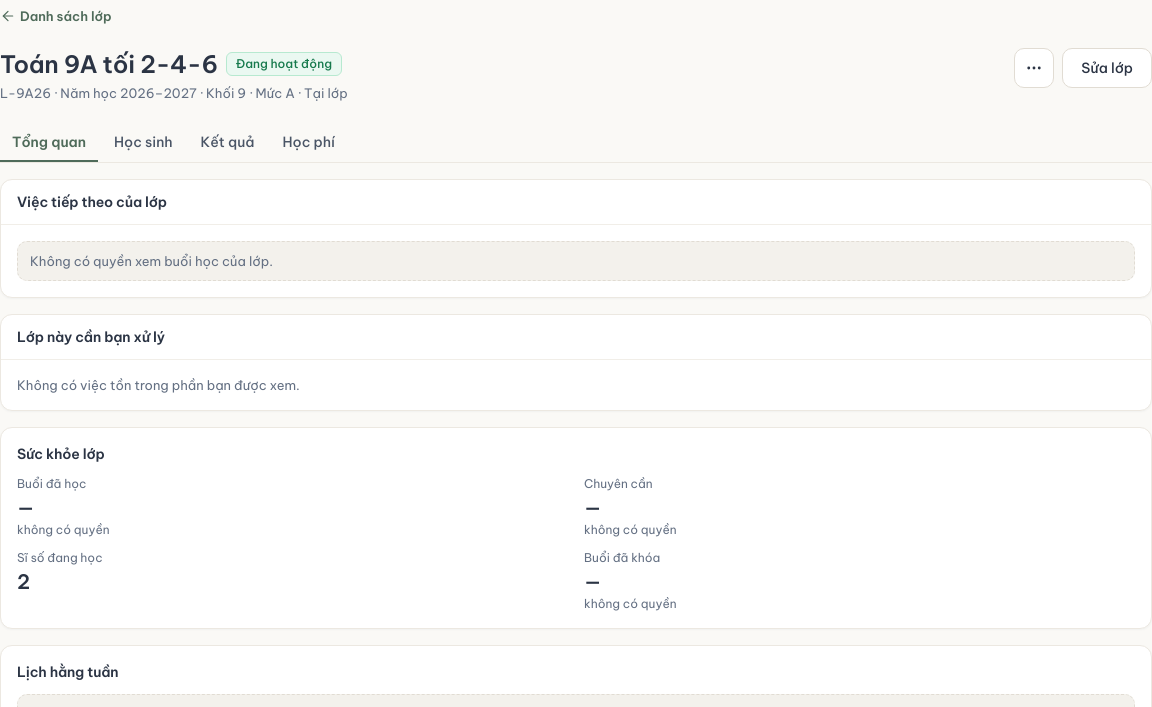
Test: ClassDetailPage students, results and fees tabs visibility › keeps a tab whose read failed and explains it
Click the tab "Học sinh" at (143, 142), box 102,122 -> 185,162
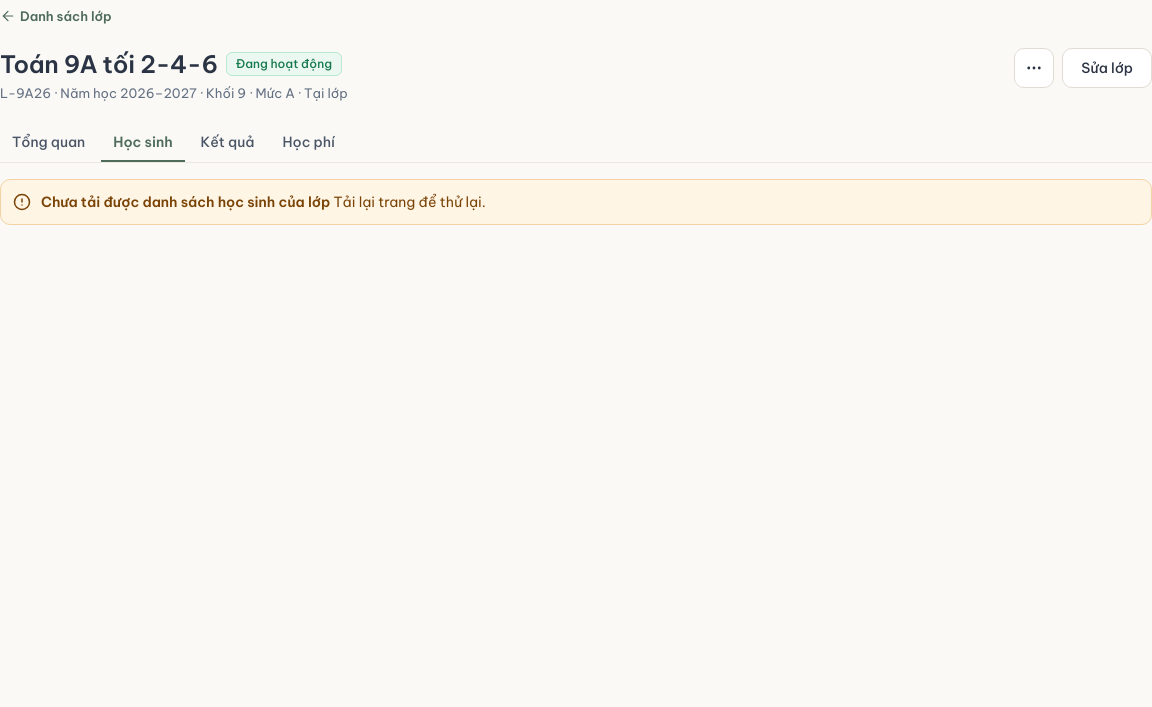
expect the text "Chưa tải được danh sách học sinh của lớp" is shown: met, box 41,193 -> 330,211
Click the tab "Kết quả" at (228, 142), box 189,122 -> 266,162
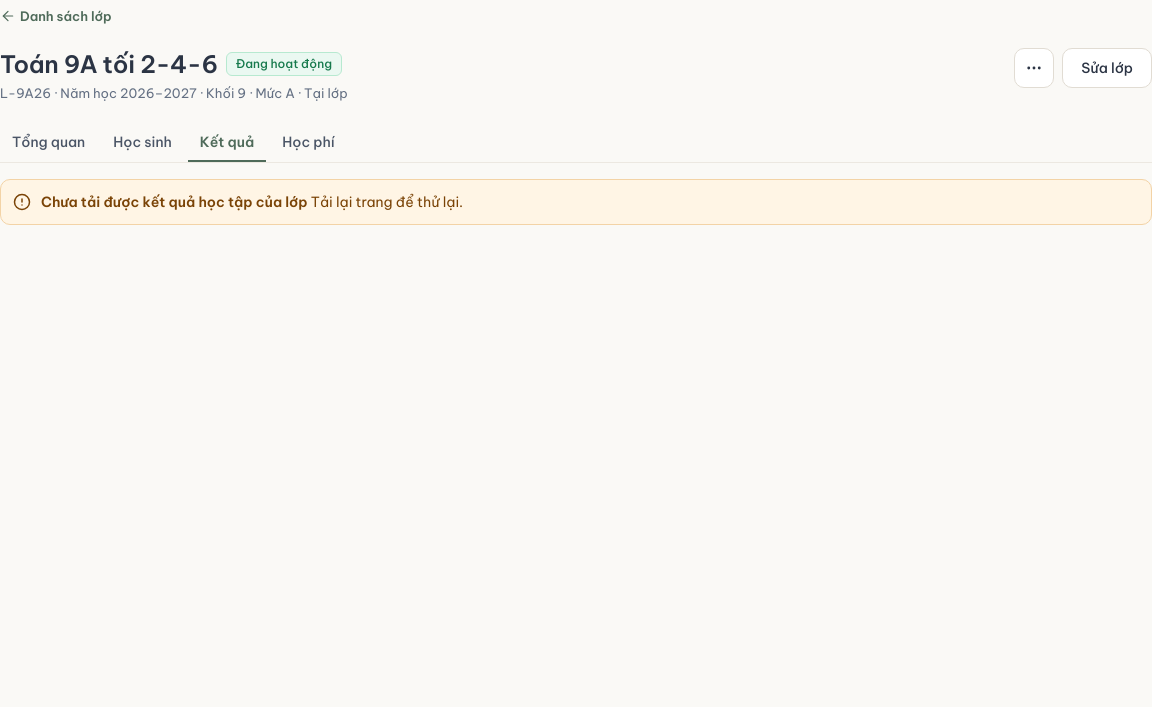
expect the text "Chưa tải được kết quả học tập của lớp" is shown: met, box 41,193 -> 308,211
Click the tab "Học phí" at (308, 142), box 270,122 -> 347,162
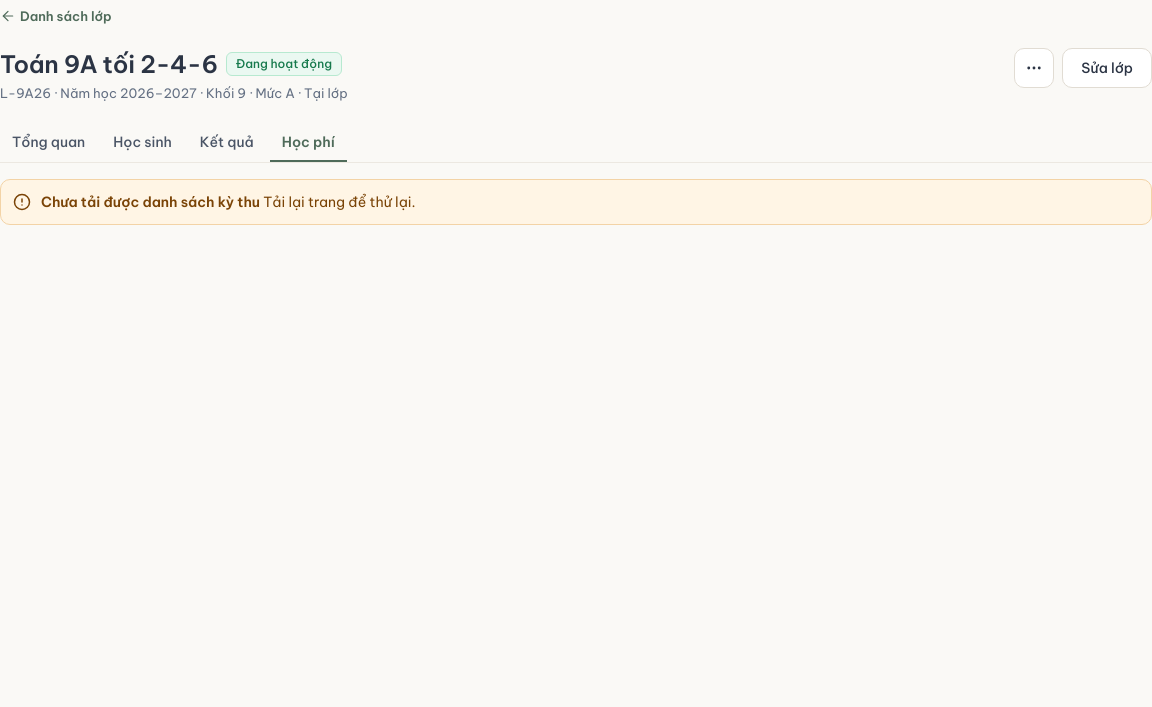
expect the text "Chưa tải được danh sách kỳ thu" is shown: met, box 41,193 -> 260,211
